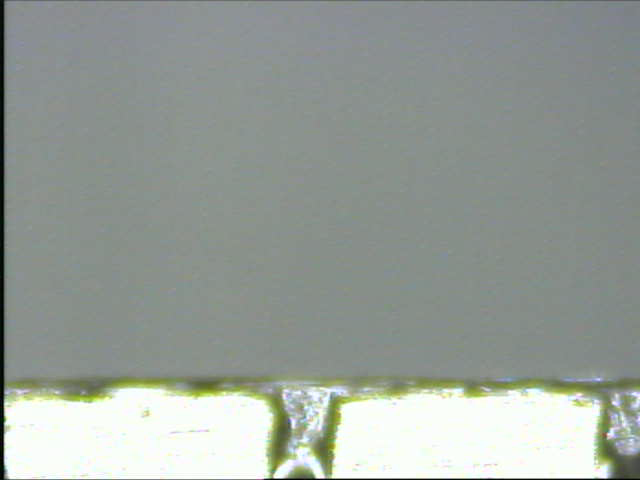line: (263, 390, 340, 477)
